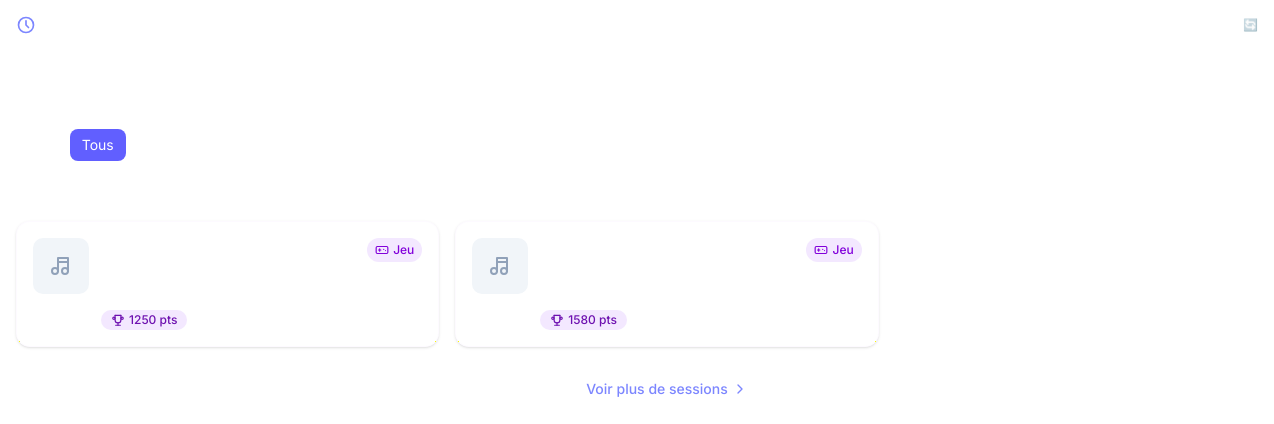
it: HistoryStats Component (Refactored) › Bouton "Charger plus" › devrait gérer les erreurs lors du chargement de plus de sessions
What coordinates should you click on to do the following:
click the button "Voir plus de sessions"
I would click on:
 (667, 389)
Its box is top-left (570, 371), bottom-right (764, 407).
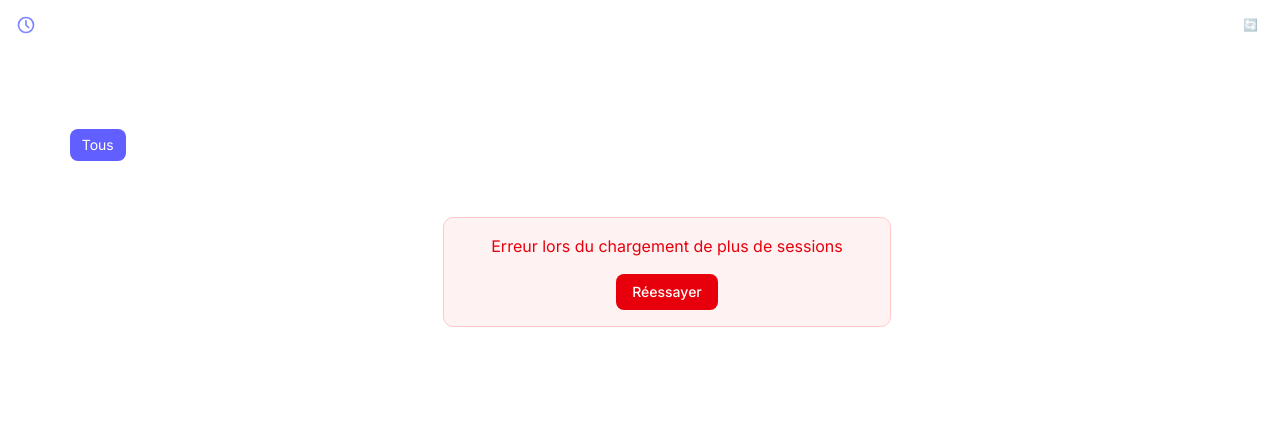
Now the text "Erreur lors du chargement de plus de sessions" is shown, box top-left (491, 236), bottom-right (843, 256)
Now the button "Réessayer" is shown, box top-left (616, 274), bottom-right (718, 310)
